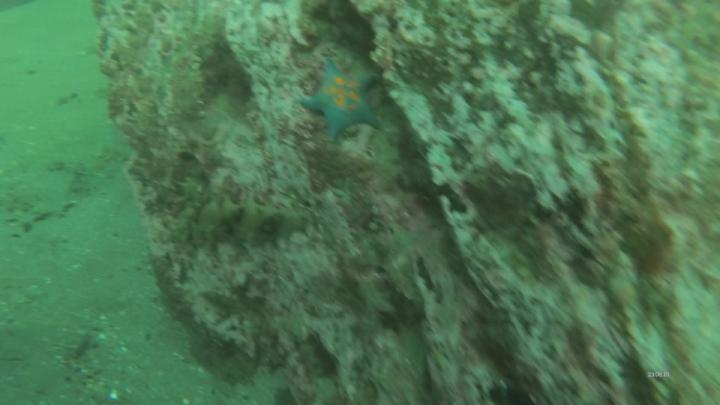holothurian: (169, 17, 225, 124), (191, 202, 311, 249), (167, 174, 204, 242)
starfish: (298, 55, 386, 145)
